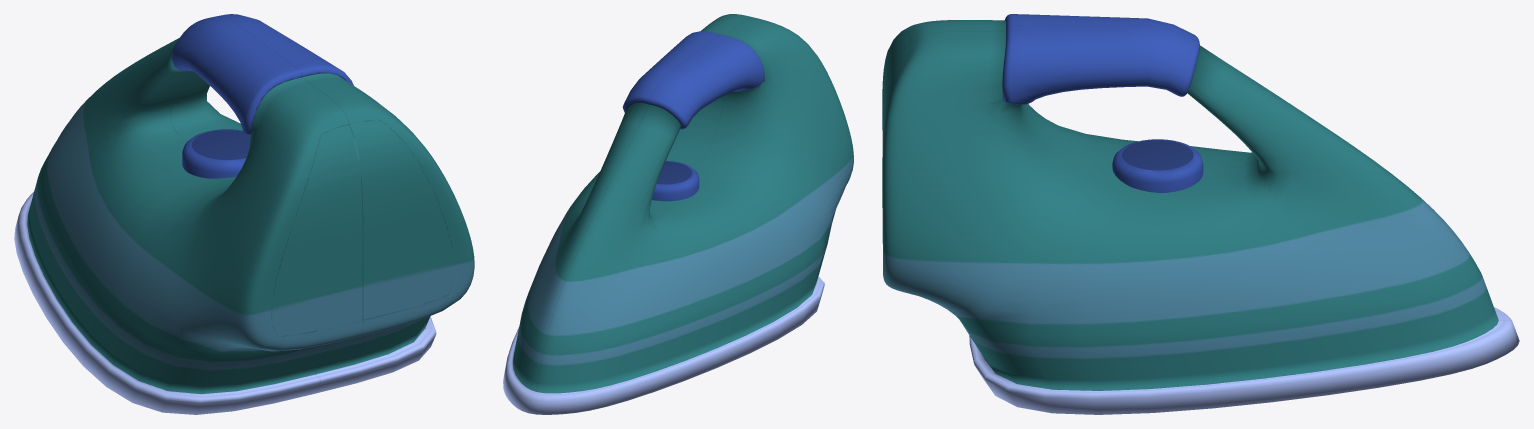
The model's file is Dazmol.fbx.
3 renders of one model, left to right at view 1: azimuth 30°, elevation 25°; view 2: azimuth 150°, elevation 25°; view 3: azimuth 270°, elevation 25°, orthographic. The views are drawn at different scales.
Parts seen in each view (by area): view 1: Plane.013; view 2: Plane.013; view 3: Plane.013.
Part boxes in pixels (x1=…): Plane.013: x1=14, y1=14, x2=474, y2=414; Plane.013: x1=503, y1=14, x2=853, y2=414; Plane.013: x1=882, y1=14, x2=1519, y2=414.
Bounding box in the file's own units: 186 × 184 × 337.
Materials: 1 (1 with a texture image).
